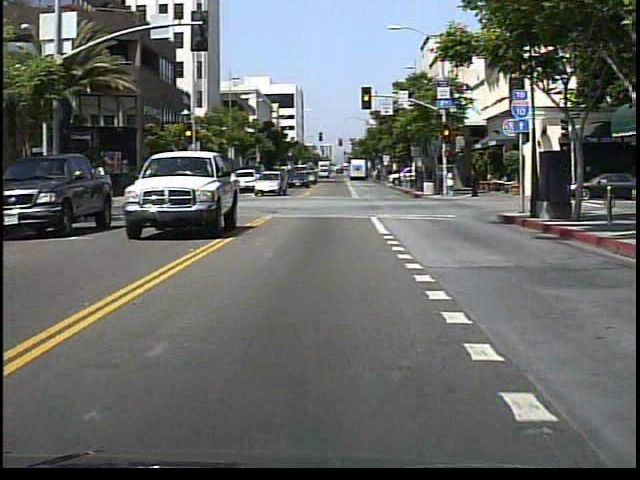person: (467, 168, 481, 201), (177, 170, 190, 197), (446, 168, 457, 198)
